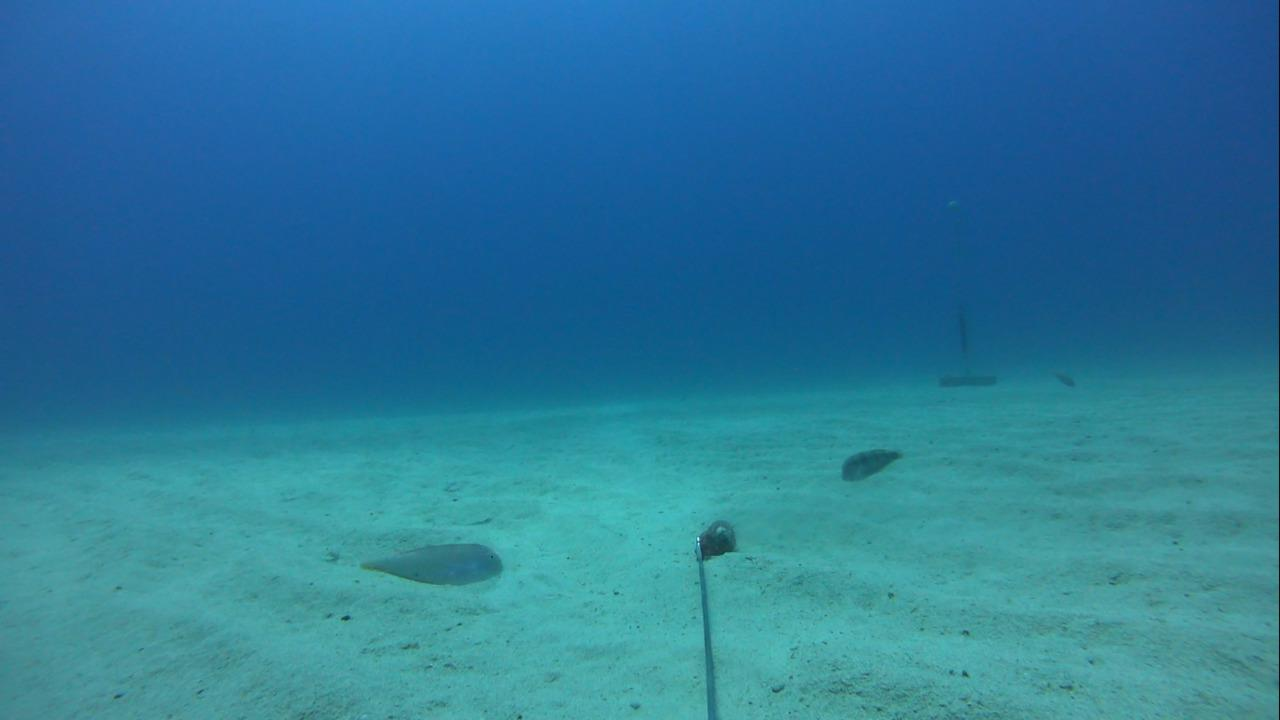raor: (341, 534, 516, 598), (836, 440, 904, 489), (1043, 362, 1084, 395)
